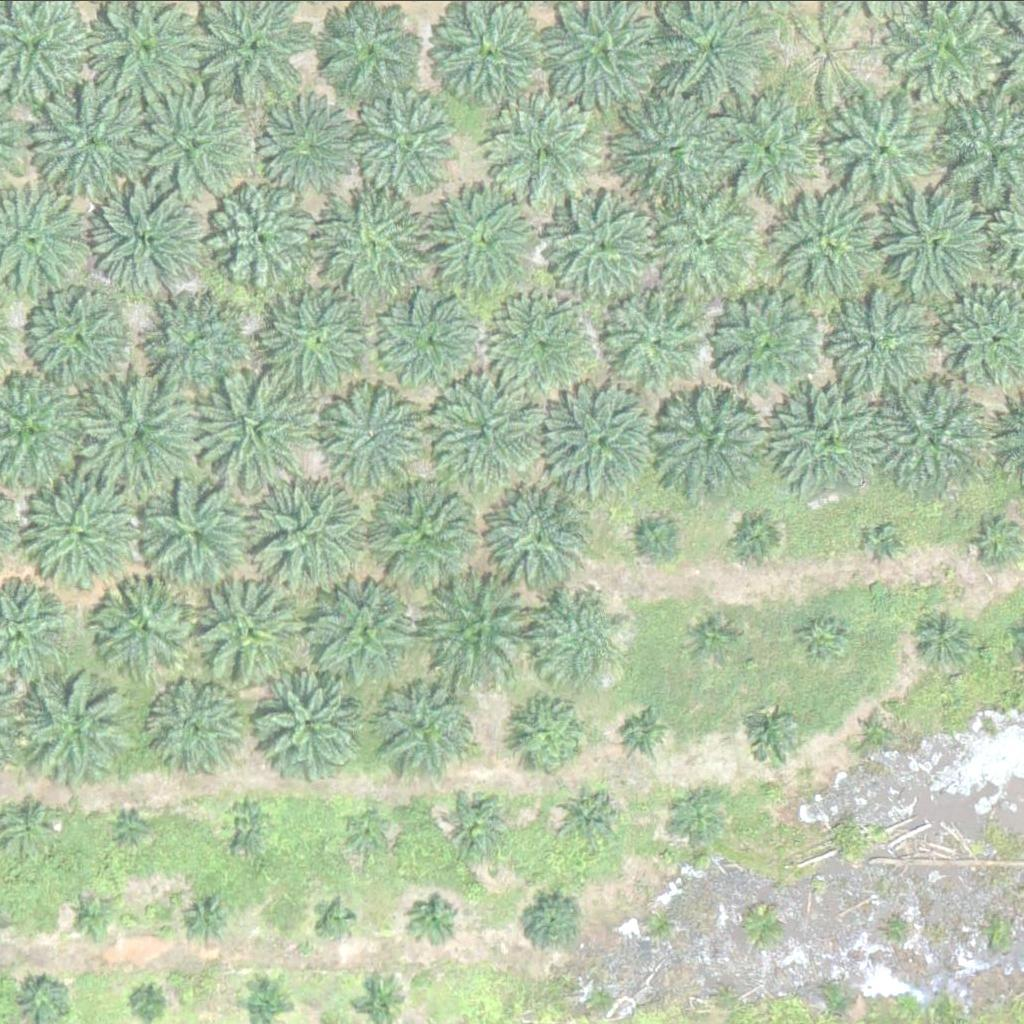Kelapa_Sawit: (75, 370, 201, 495), (316, 182, 442, 307), (426, 172, 552, 297), (243, 473, 369, 598), (191, 366, 317, 491), (534, 187, 660, 312), (428, 370, 542, 483), (38, 85, 151, 198), (146, 86, 259, 199), (23, 480, 136, 593), (140, 481, 253, 594), (249, 92, 362, 205), (484, 484, 597, 597), (773, 380, 886, 493), (875, 379, 988, 492), (484, 292, 597, 405), (645, 183, 758, 296), (830, 88, 943, 201), (713, 92, 826, 205), (615, 98, 728, 211), (94, 186, 208, 298), (372, 479, 486, 591), (428, 571, 542, 683), (312, 575, 426, 687), (195, 572, 309, 684), (484, 93, 598, 205), (21, 663, 134, 775), (358, 84, 471, 196), (207, 178, 320, 290), (261, 283, 374, 395), (550, 383, 663, 495), (662, 383, 775, 495), (711, 286, 824, 398), (596, 279, 709, 391), (769, 181, 882, 293), (876, 185, 989, 297), (778, 2, 879, 102), (93, 576, 194, 676), (389, 292, 490, 392), (329, 380, 430, 480), (828, 286, 929, 386), (30, 289, 130, 389), (153, 304, 253, 404), (259, 671, 359, 771), (385, 683, 485, 783), (508, 694, 596, 781), (155, 679, 243, 766), (535, 594, 623, 681), (560, 783, 623, 846), (519, 888, 582, 951), (450, 790, 513, 852), (914, 605, 977, 667), (612, 696, 675, 758), (410, 895, 461, 945), (4, 802, 55, 852), (971, 515, 1022, 565), (679, 789, 729, 839), (743, 713, 793, 763), (222, 797, 272, 847), (799, 611, 849, 661), (690, 610, 740, 660), (67, 891, 117, 941), (341, 808, 391, 858), (181, 892, 231, 942), (631, 513, 681, 563), (734, 512, 784, 562), (316, 900, 354, 938), (857, 708, 895, 746), (866, 525, 904, 563), (122, 815, 147, 840), (136, 992, 161, 1017)
